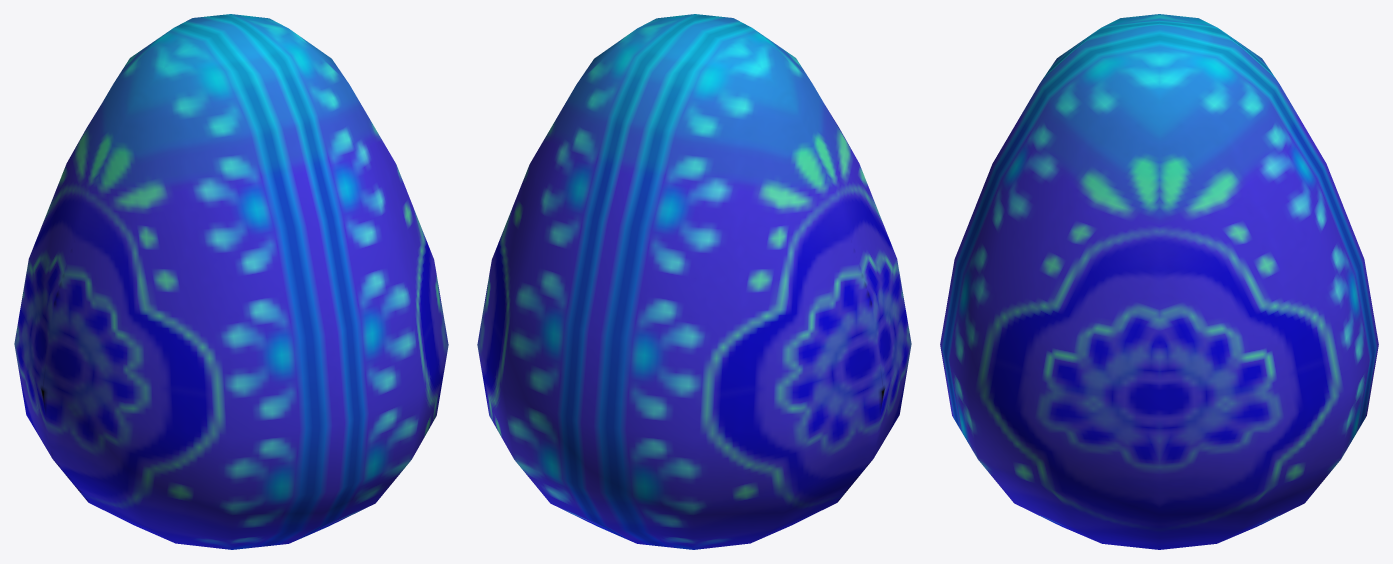
Rendered from Egg_12(HighPoly).FBX.
3 renders of one model, left to right at view 1: azimuth 30°, elevation 25°; view 2: azimuth 150°, elevation 25°; view 3: azimuth 270°, elevation 25°, orthographic.
Parts seen in each view (by area): view 1: Egg_12(HighPoly); view 2: Egg_12(HighPoly); view 3: Egg_12(HighPoly).
Boxes of the visible parts, x1,y1,x2,y2 form: Egg_12(HighPoly): (14, 14, 448, 549); Egg_12(HighPoly): (477, 14, 911, 549); Egg_12(HighPoly): (940, 14, 1378, 549).
Bounding box in the file's own units: 0.4668 × 0.5861 × 0.4674.
